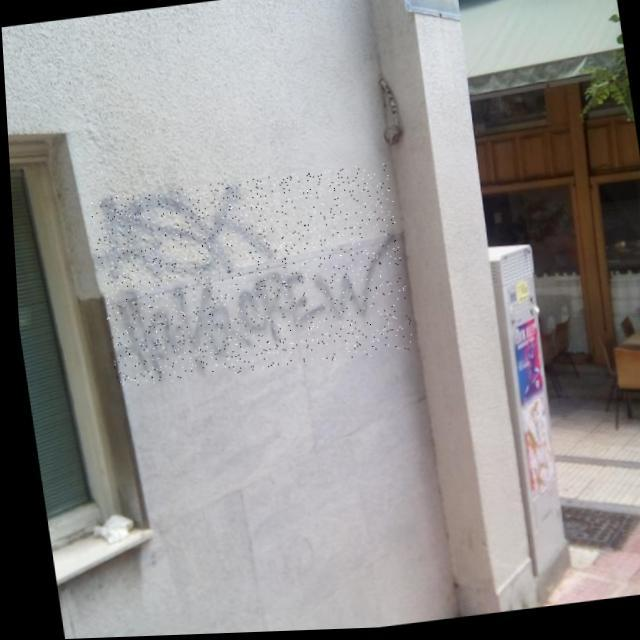-: (85, 164, 411, 389)
